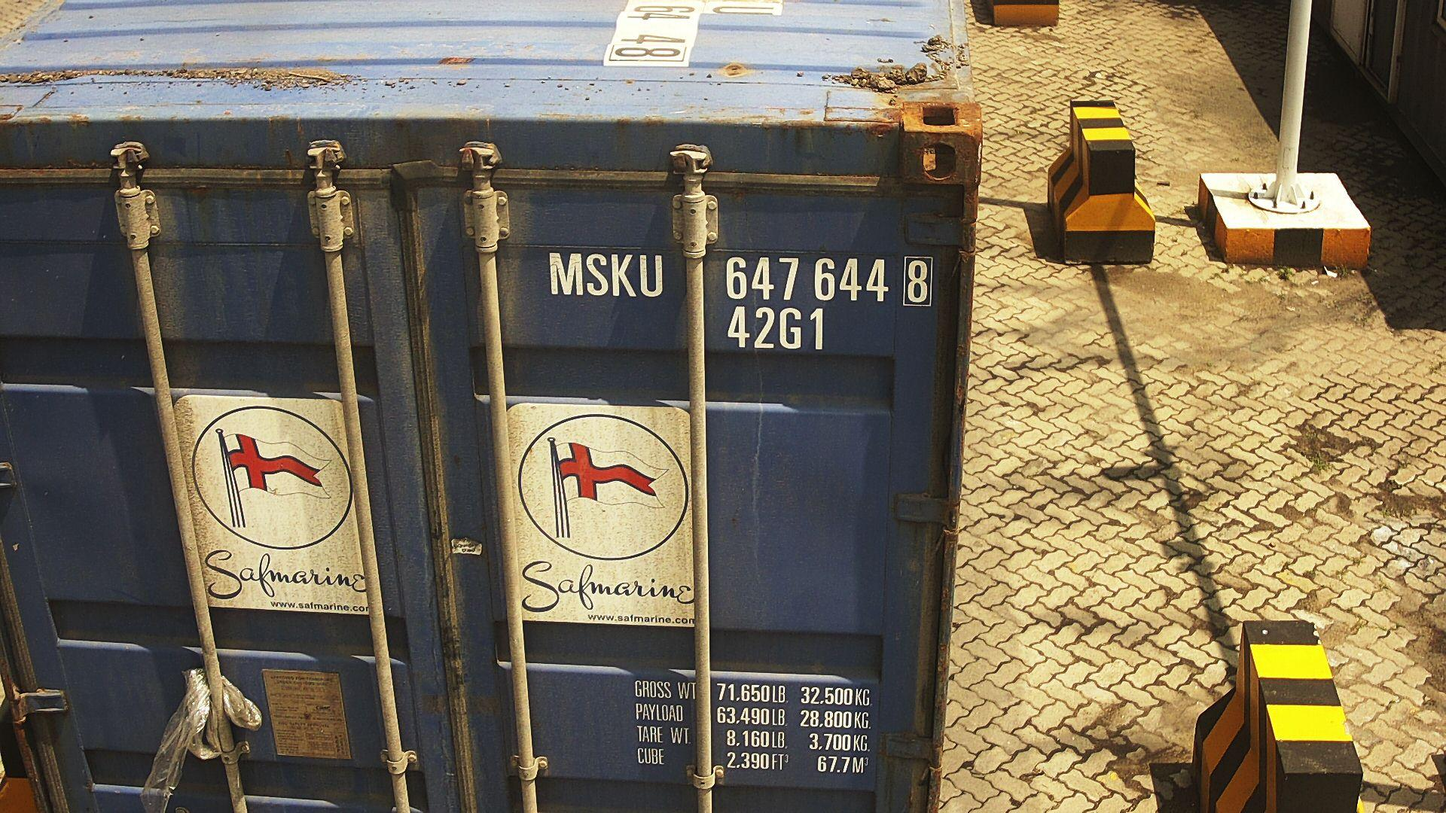container-numbers: (542, 250, 939, 309), (722, 305, 830, 355)
